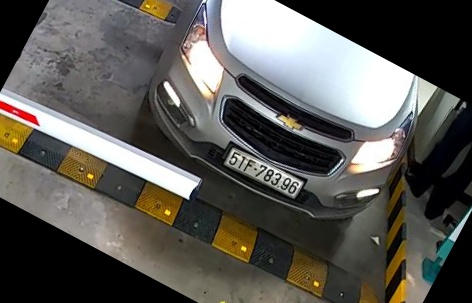plate: (218, 141, 312, 204)
